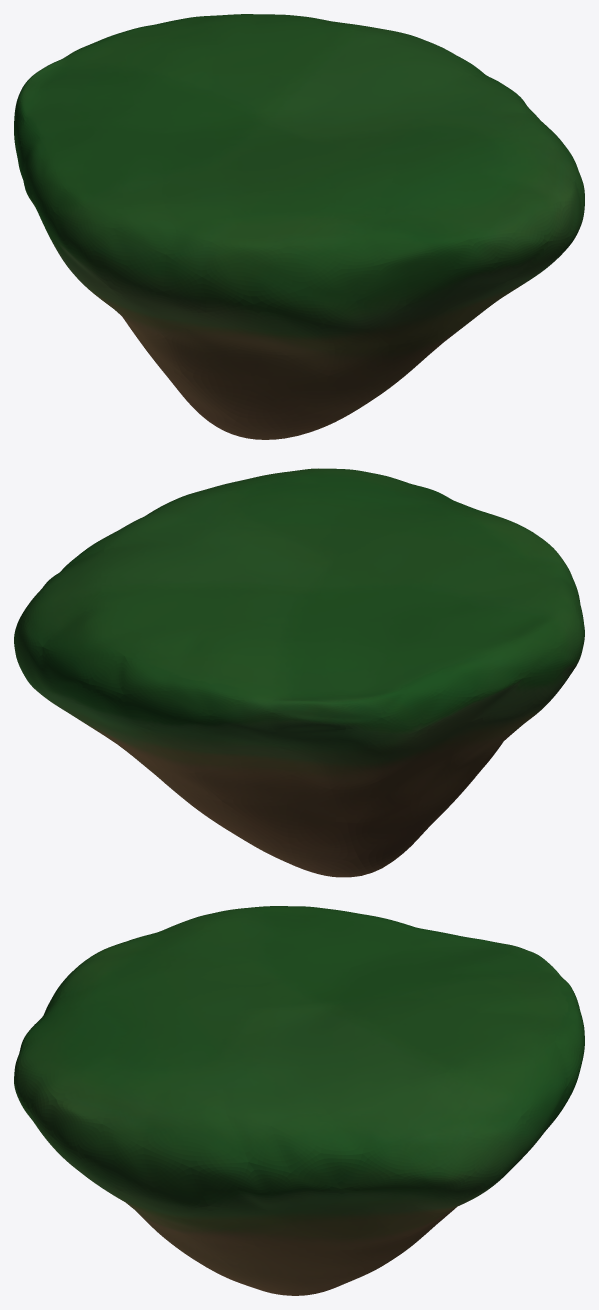
File: map_test.fbx
3 renders of one model, top to bottom at view 1: azimuth 30°, elevation 25°; view 2: azimuth 150°, elevation 25°; view 3: azimuth 270°, elevation 25°, orthographic. The views are drawn at different scales.
Parts seen in each view (by area): view 1: Icosphere; view 2: Icosphere; view 3: Icosphere.
Boxes of the visible parts, bbox=[...] form: Icosphere: bbox=[14, 14, 584, 439]; Icosphere: bbox=[14, 468, 584, 877]; Icosphere: bbox=[14, 906, 584, 1295].
Bounding box in the file's own units: 1639 × 989 × 1719.
